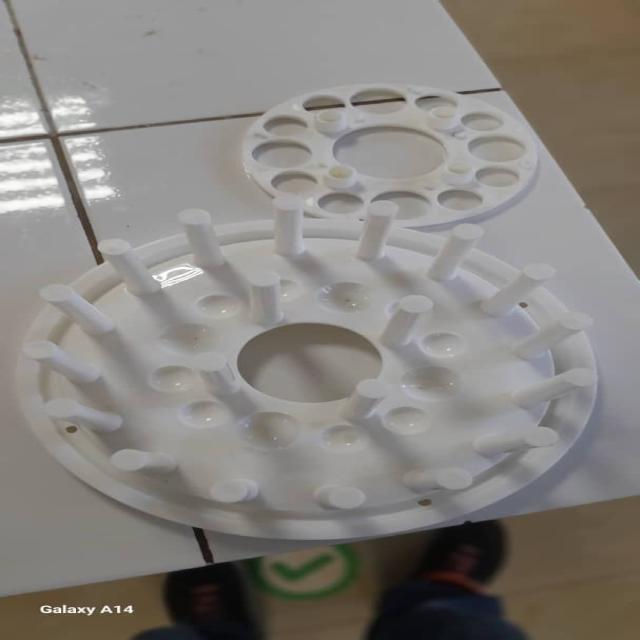Test Tube Racks: (2, 187, 596, 538)
